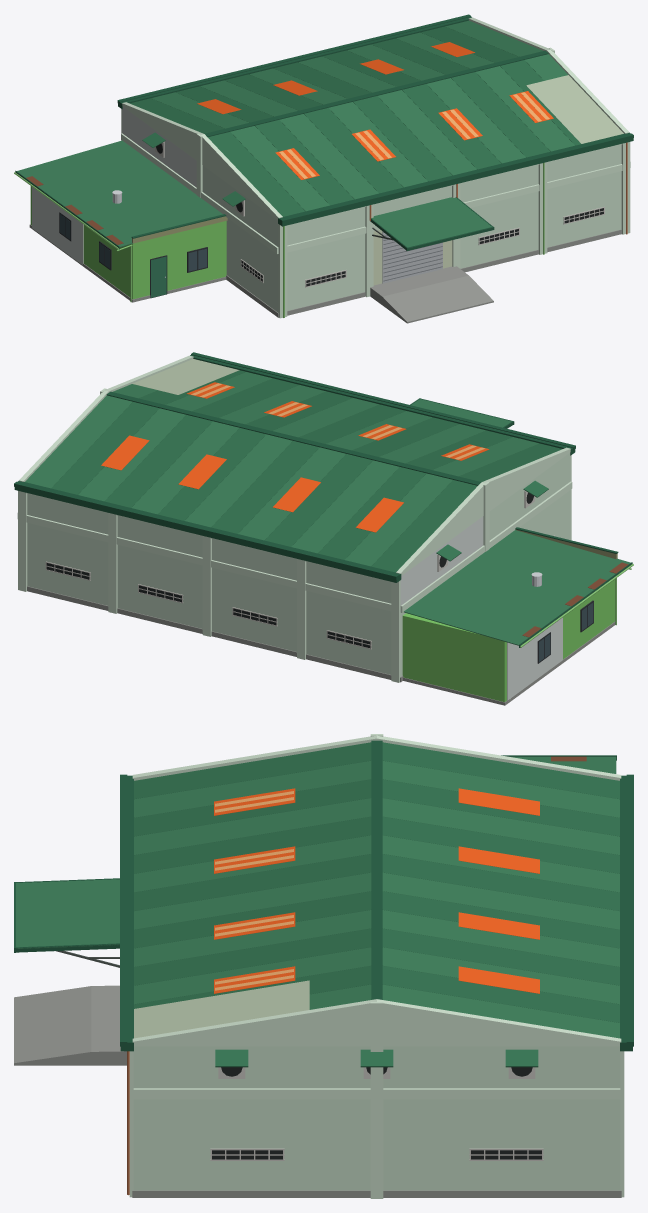
File: warehouse_7.glb
3 views of the same model, one above another, from view 1: azimuth 30°, elevation 25°; view 2: azimuth 150°, elevation 25°; view 3: azimuth 270°, elevation 25° (orthographic). The views are drawn at different scales.
Parts seen in each view (by area): view 1: WH7_CombinedMesh; view 2: WH7_CombinedMesh; view 3: WH7_CombinedMesh.
Part boxes in pixels (<box>): WH7_CombinedMesh: <box>14,14,633,323</box>; WH7_CombinedMesh: <box>14,352,633,705</box>; WH7_CombinedMesh: <box>14,734,633,1198</box>.
Size of the model in its own units: 27.29 by 6.91 by 19.87.
